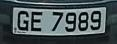7: (50, 10, 65, 34)
8: (77, 10, 90, 34)
9: (89, 10, 102, 33), (64, 11, 77, 34)
E: (29, 10, 44, 35)
G: (16, 9, 31, 34)
